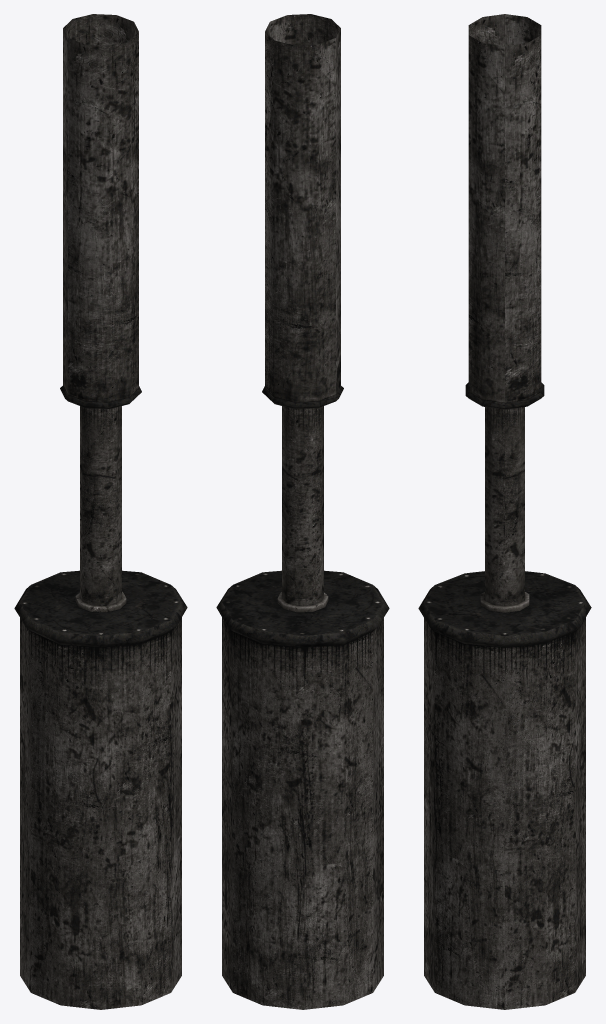
Rendered from control_room_piston_piston.dae.
The picture shows the model from 3 angles, left to right: view 1: azimuth 30°, elevation 25°; view 2: azimuth 150°, elevation 25°; view 3: azimuth 270°, elevation 25°; orthographic projection.
Visible parts, largest first — view 1: control_room_piston_piston; view 2: control_room_piston_piston; view 3: control_room_piston_piston.
Boxes of the visible parts, x1,y1,x2,y2 form: control_room_piston_piston: (14, 14, 187, 1009); control_room_piston_piston: (216, 14, 389, 1009); control_room_piston_piston: (418, 14, 591, 1009).
Size of the model in its own units: 2.68 by 16.12 by 2.68.
